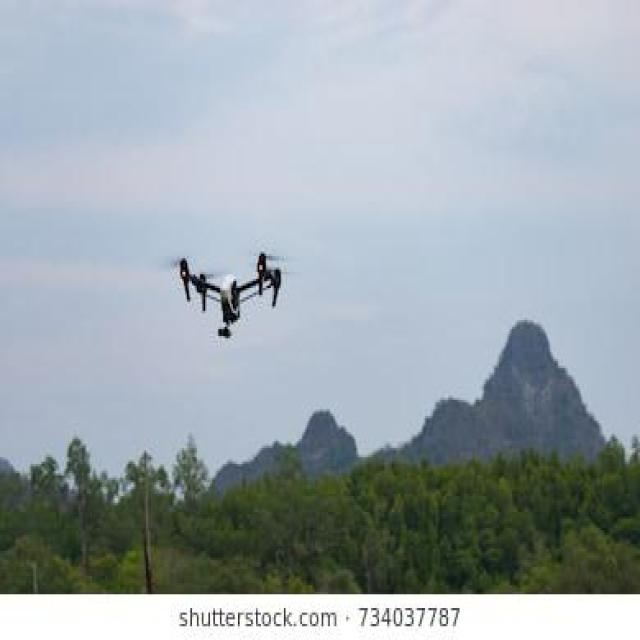drone: (102, 227, 350, 386)
